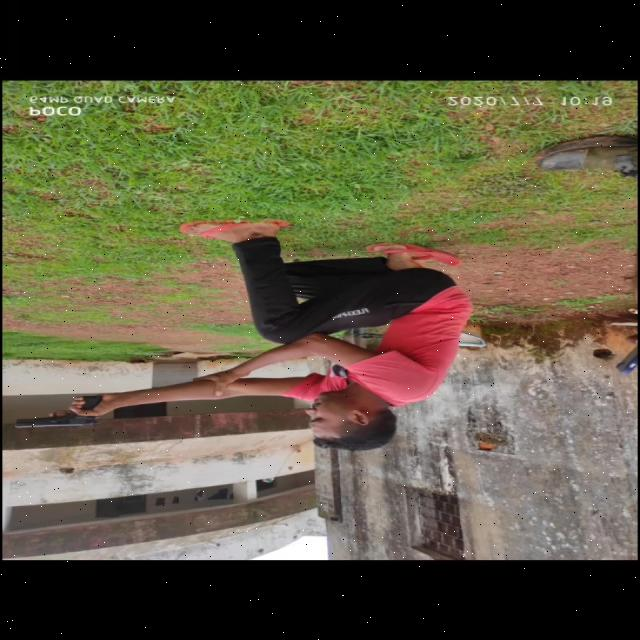gun: (3, 391, 123, 436)
